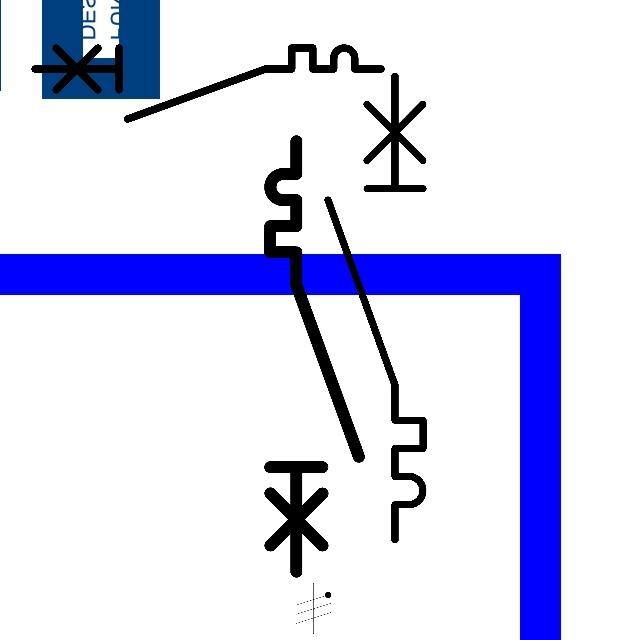interruptor_termomagnetico: (316, 64, 435, 552), (259, 130, 370, 583), (26, 39, 390, 128)
